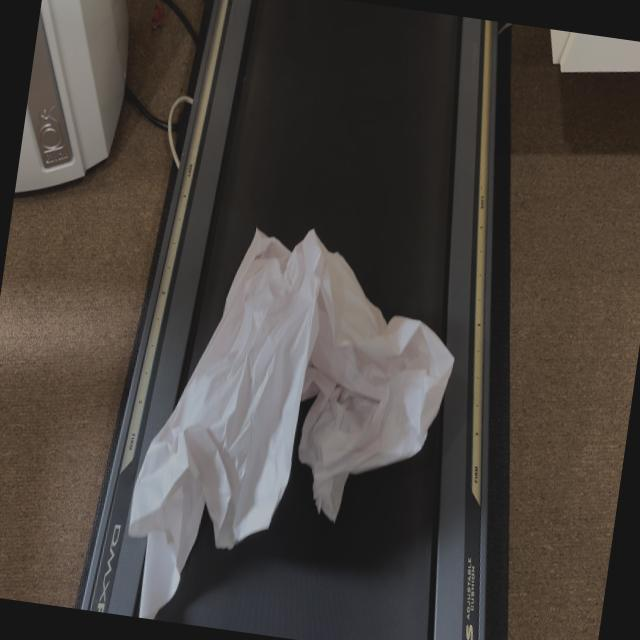Recycle: (108, 205, 476, 640)
